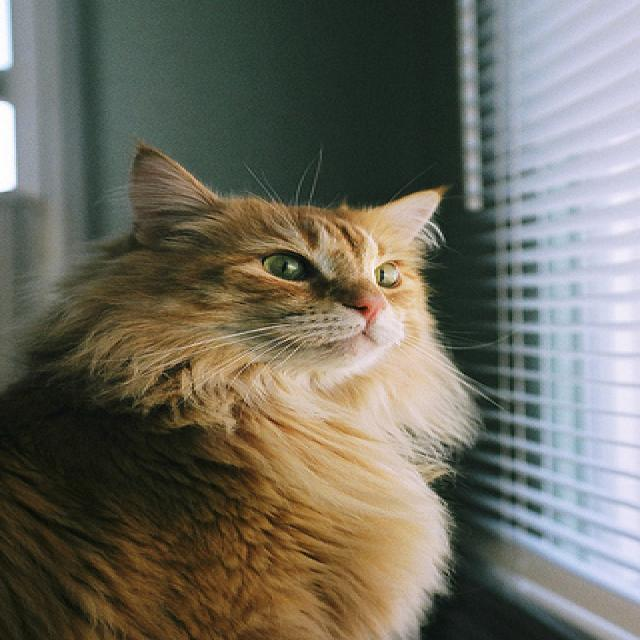Maine Coon: (0, 143, 492, 640)
